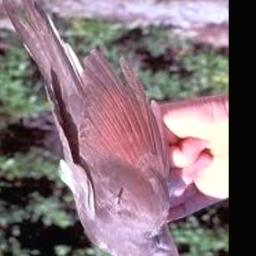Cuckoo: (4, 0, 222, 256)
